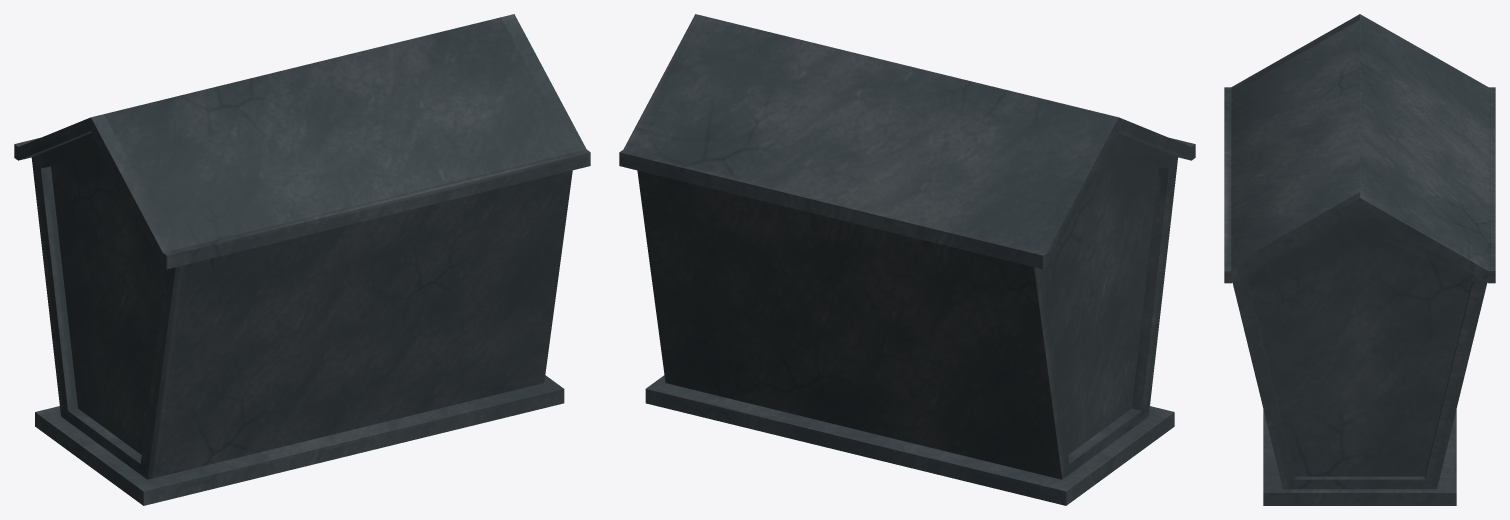
File: RaisedGrave4_Model.fbx
3 views of the same model, side by side, from view 1: azimuth 30°, elevation 25°; view 2: azimuth 150°, elevation 25°; view 3: azimuth 270°, elevation 25° (orthographic). The views are drawn at different scales.
Parts seen in each view (by area): view 1: Cylinder040; view 2: Cylinder040; view 3: Cylinder040.
Boxes of the visible parts, x1,y1,x2,y2 form: Cylinder040: (14,14,590,505); Cylinder040: (619,14,1195,505); Cylinder040: (1224,14,1495,505).
Size of the model in its own units: 156 by 122 by 96.9.
